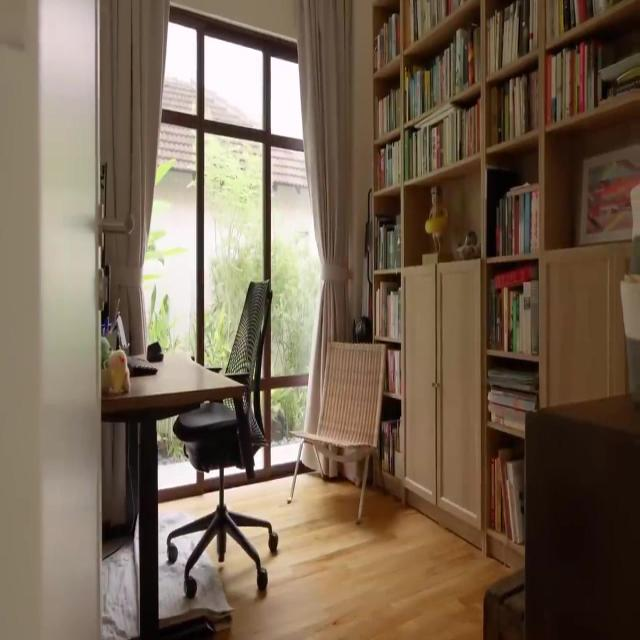door: (402, 257, 482, 532)
obstacle: (100, 348, 246, 638), (166, 277, 278, 598), (286, 340, 386, 524)
